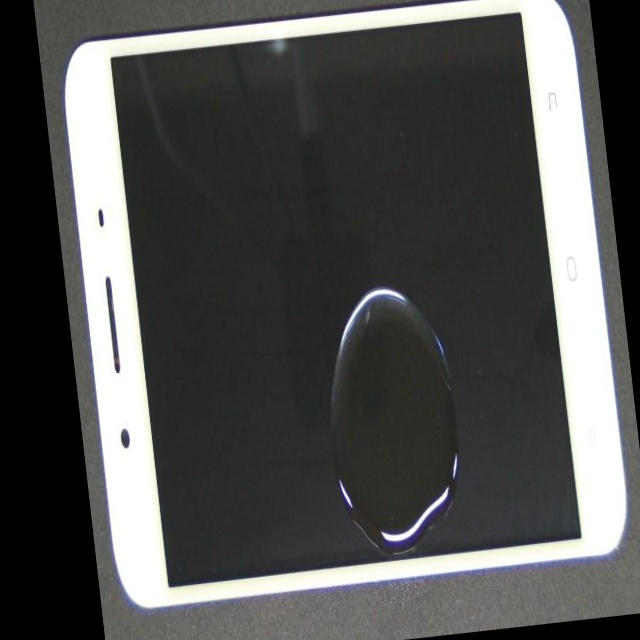oil: (256, 232, 640, 640)
